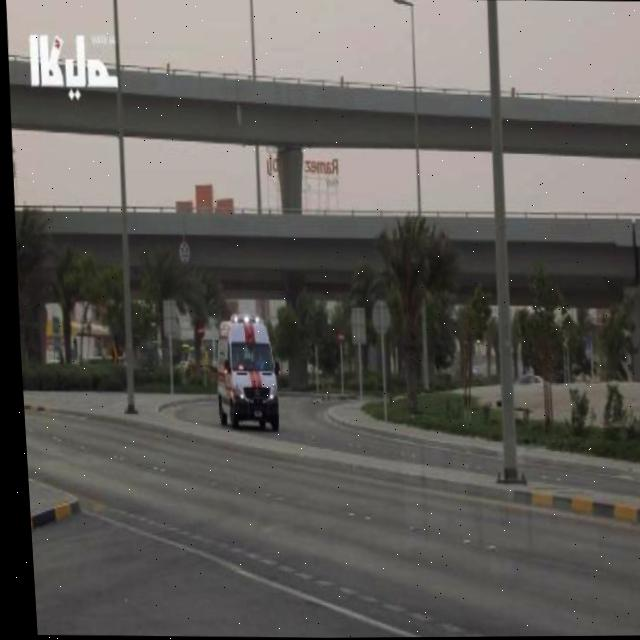emergency: (203, 304, 284, 440)
